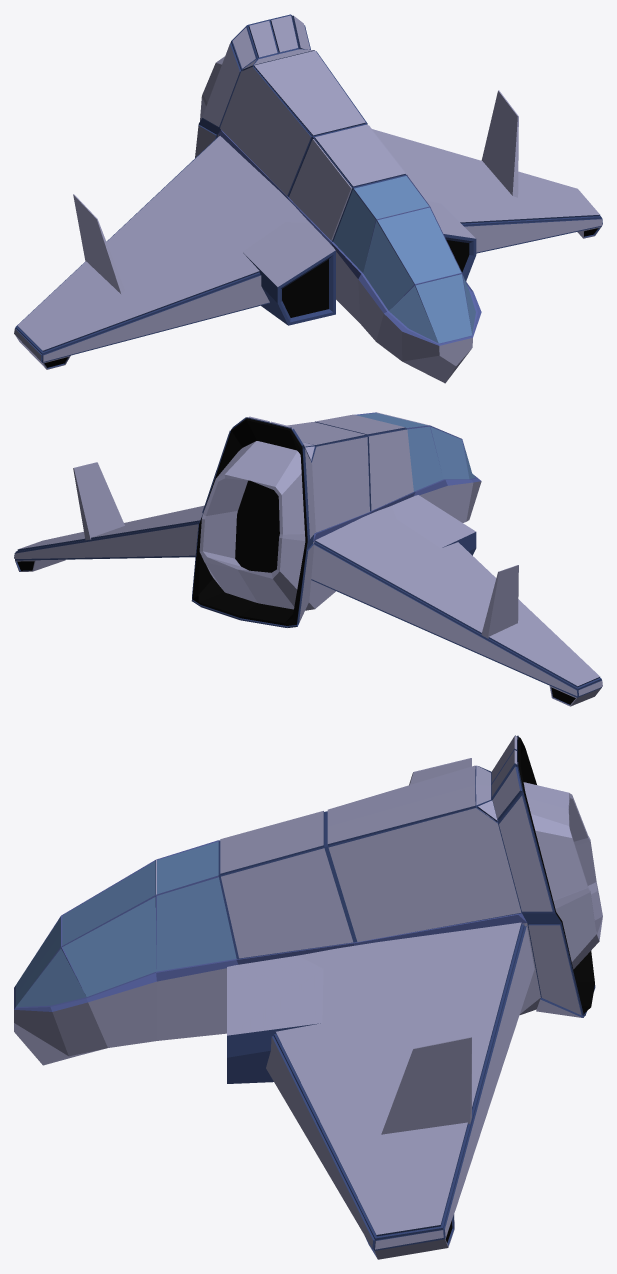
Rendered from low_poly_spaceship.glb.
3 views of the same model, one above another, from view 1: azimuth 30°, elevation 25°; view 2: azimuth 150°, elevation 25°; view 3: azimuth 270°, elevation 25° (orthographic). The views are drawn at different scales.
Visible parts, largest first — view 1: Spaceship; view 2: Spaceship; view 3: Spaceship.
Part boxes in pixels (box(x1,y1,x2,y2)): Spaceship: box(14, 14, 602, 383); Spaceship: box(14, 412, 602, 706); Spaceship: box(14, 735, 602, 1259).
Bounding box in the file's own units: 4191 × 1740 × 2811.
